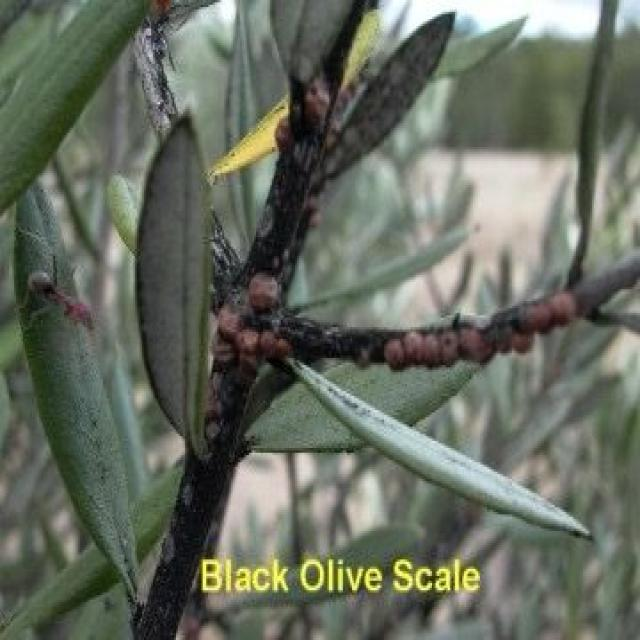Black Scale: (380, 287, 585, 367), (212, 303, 293, 385), (244, 277, 279, 311)
